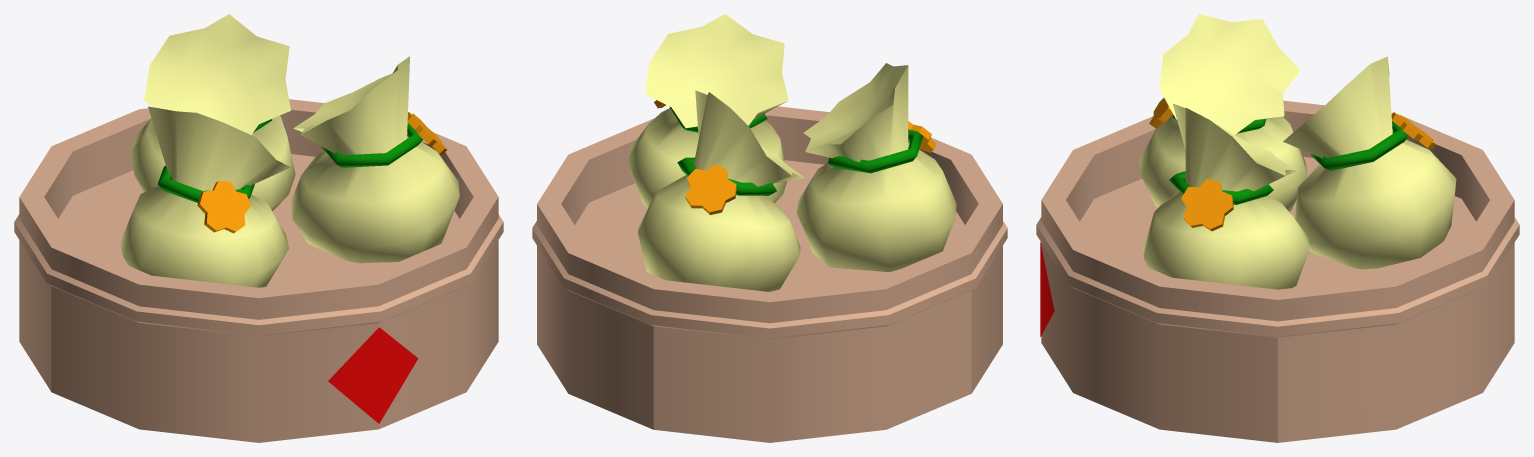
File: foodBeg.glb
3 renders of one model, left to right at view 1: azimuth 30°, elevation 25°; view 2: azimuth 150°, elevation 25°; view 3: azimuth 270°, elevation 25°, orthographic. The views are drawn at different scales.
Visible parts, largest first — view 1: foobeg_LL; view 2: foobeg_LL; view 3: foobeg_LL.
Part boxes in pixels (bbox=[...]): foobeg_LL: bbox=[14, 14, 503, 442]; foobeg_LL: bbox=[532, 14, 1007, 442]; foobeg_LL: bbox=[1036, 14, 1519, 442].
Size of the model in its own units: 0.9333 by 0.61 by 0.9333.
